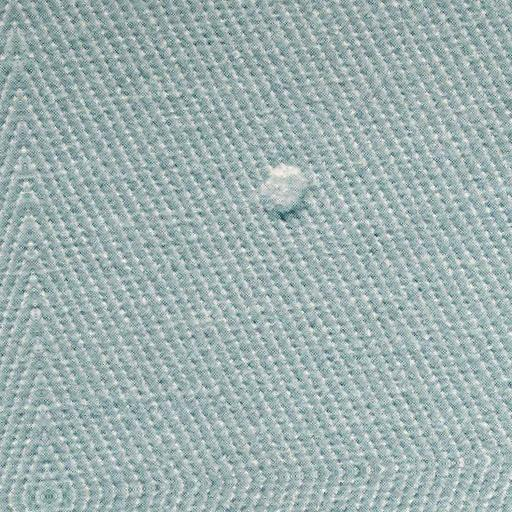knot: (248, 159, 316, 220)
